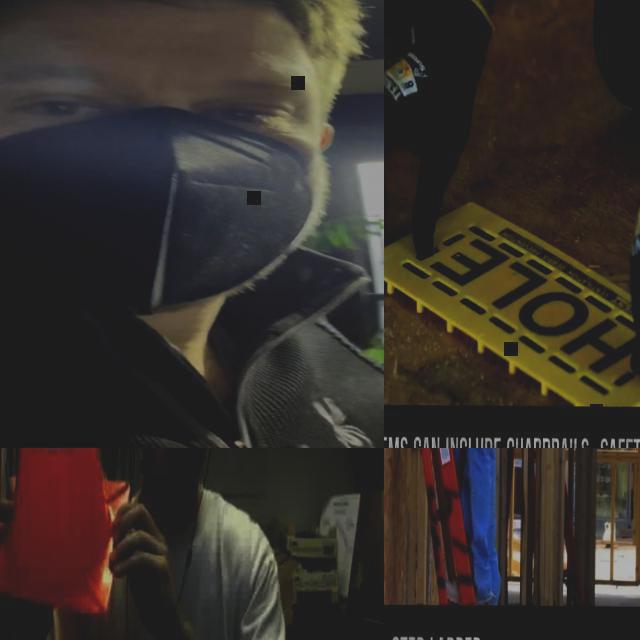mask: (0, 106, 315, 311)
no_helmet: (0, 0, 335, 70)
no_mask: (150, 448, 213, 500)
no_vest: (0, 298, 384, 448), (92, 499, 247, 640)
person: (0, 0, 384, 448), (384, 0, 640, 384), (0, 448, 303, 640), (389, 448, 516, 604)
safety_cone: (0, 448, 133, 612)
